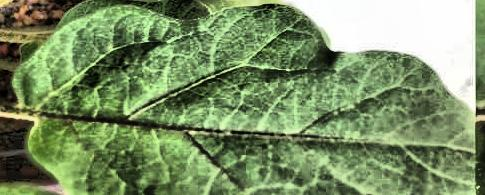HEALTHY: (0, 1, 485, 195)
